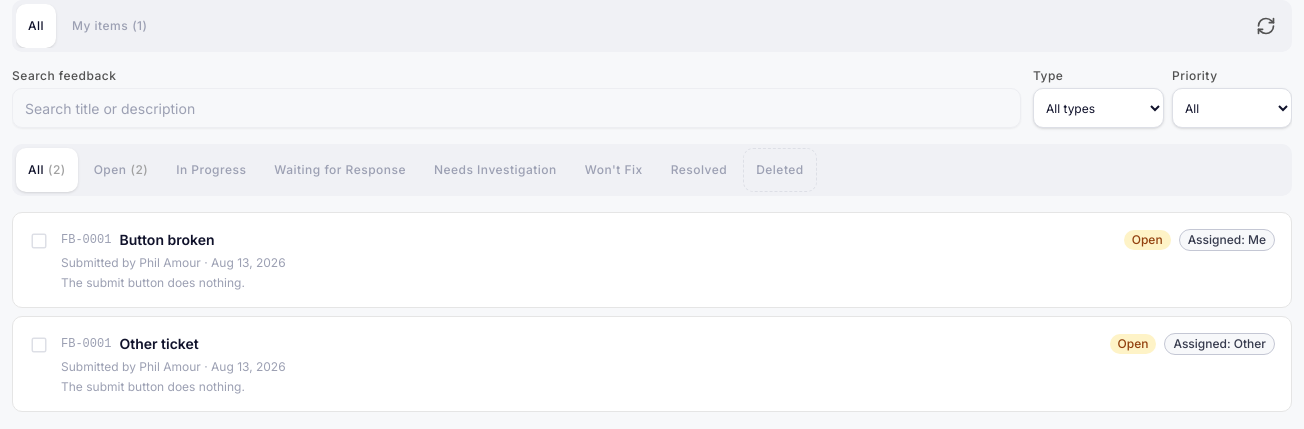
FeedbackInbox — scope and filters › search filters the list by title
Expected: the heading "Other ticket" is shown, [119, 335, 199, 352]
Type "Other" into the search field labelled "Search feedback" at {"x": 516, "y": 108}, box [12, 88, 1021, 128]
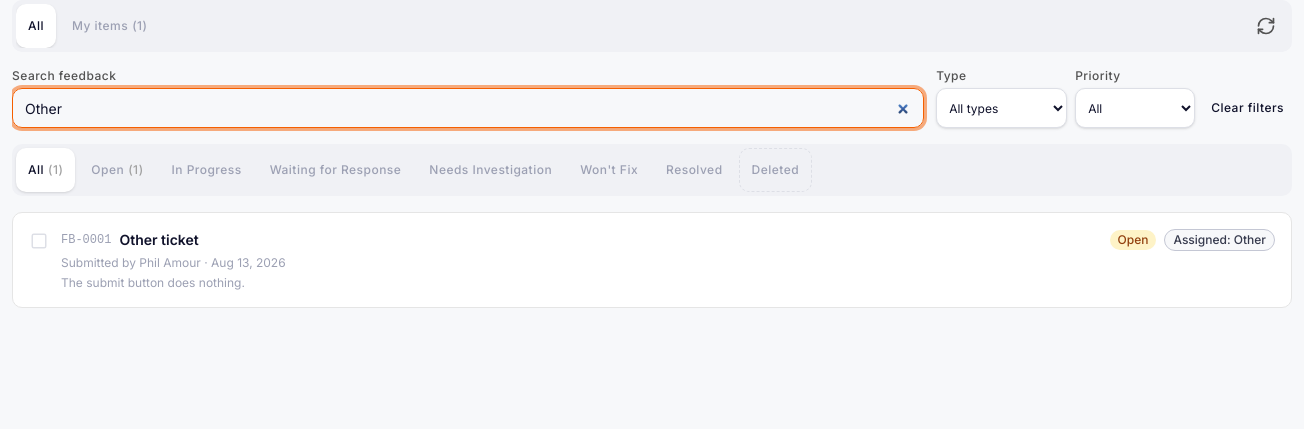
Expected: the heading "Other ticket" is shown, [119, 231, 199, 248]
Expected: the button "Button broken" is gone
